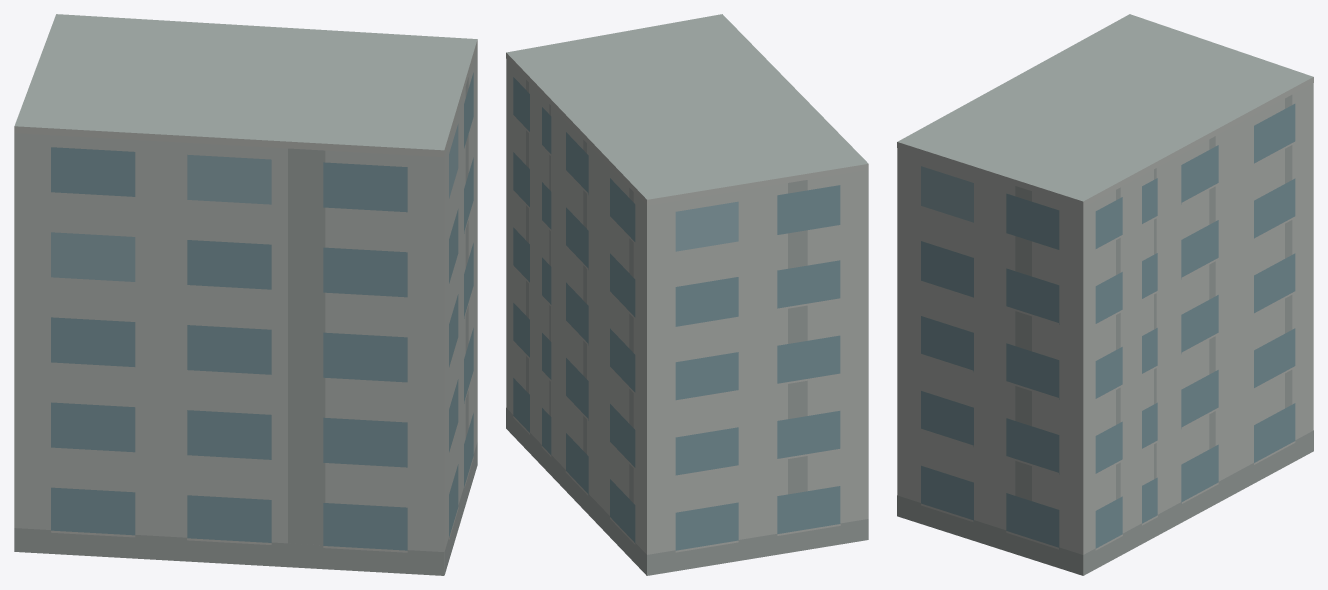
File: survey-upis-32809992.glb
3 renders of one model, left to right at view 1: azimuth 30°, elevation 25°; view 2: azimuth 150°, elevation 25°; view 3: azimuth 270°, elevation 25°, orthographic. The views are drawn at different scales.
Visible parts, largest first — view 1: survey-upis-32809992.tmp; view 2: survey-upis-32809992.tmp; view 3: survey-upis-32809992.tmp.
Boxes of the visible parts, x1,y1,x2,y2 form: survey-upis-32809992.tmp: (14, 14, 477, 575); survey-upis-32809992.tmp: (506, 14, 868, 575); survey-upis-32809992.tmp: (897, 14, 1313, 575).
Bounding box in the file's own units: 16.12 × 15 × 15.13.
